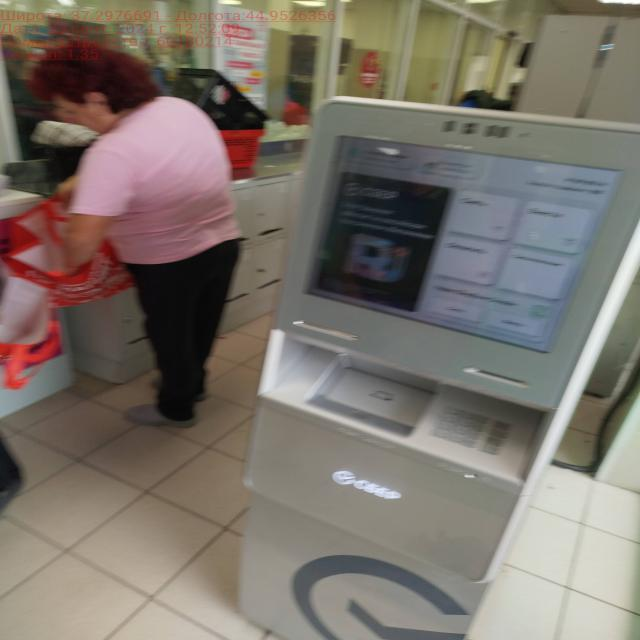bank: (237, 85, 640, 639)
